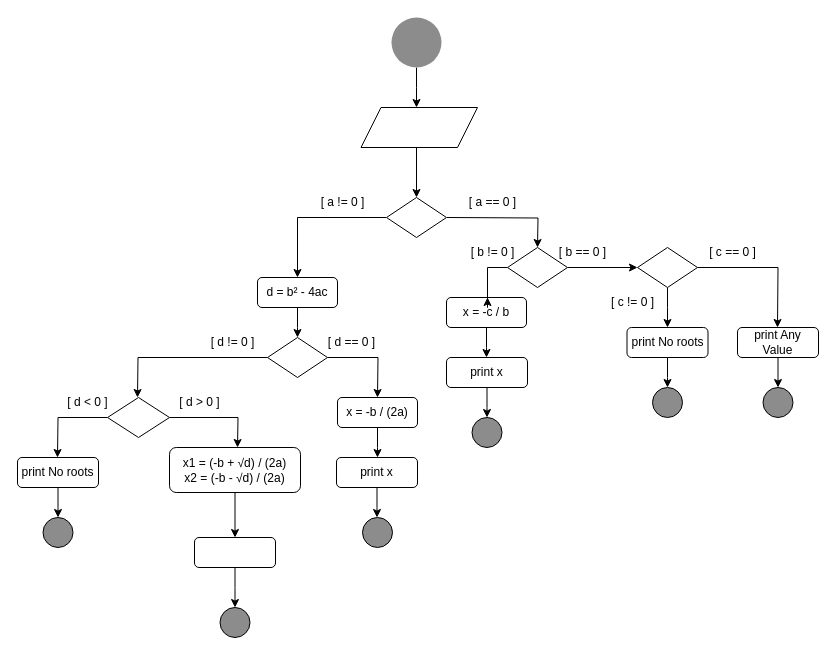
This 836x655 diagram has some shape labels left out. Each missing label, with the centre of its shape:
"print x1, x2" goes at [235,552].
"Read a,b,c" goes at [419,127].
